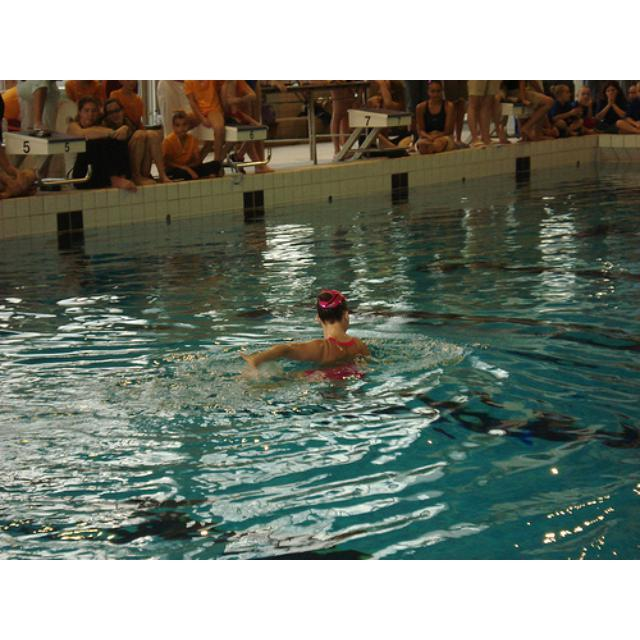human: (238, 291, 367, 371)
